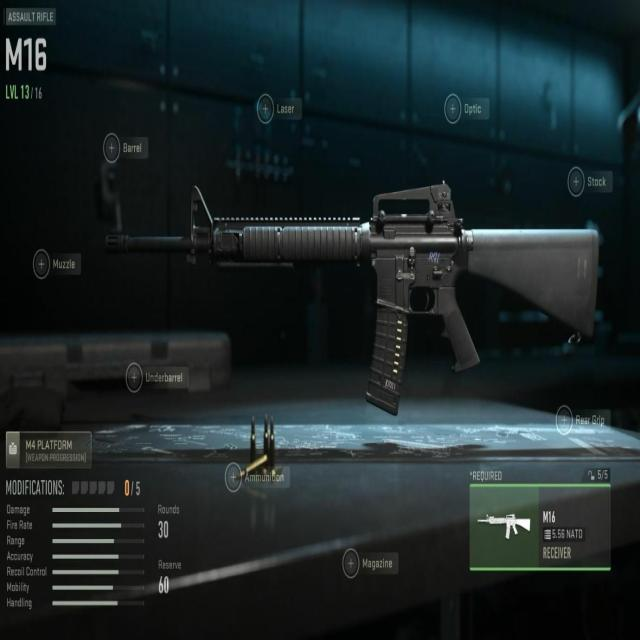Rifle: (105, 184, 601, 416), (477, 514, 530, 540)
